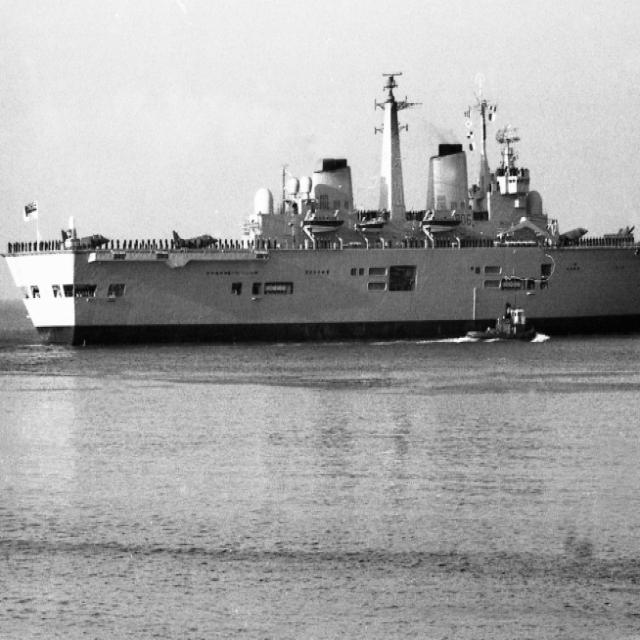Portanaves: (1, 70, 640, 346)
